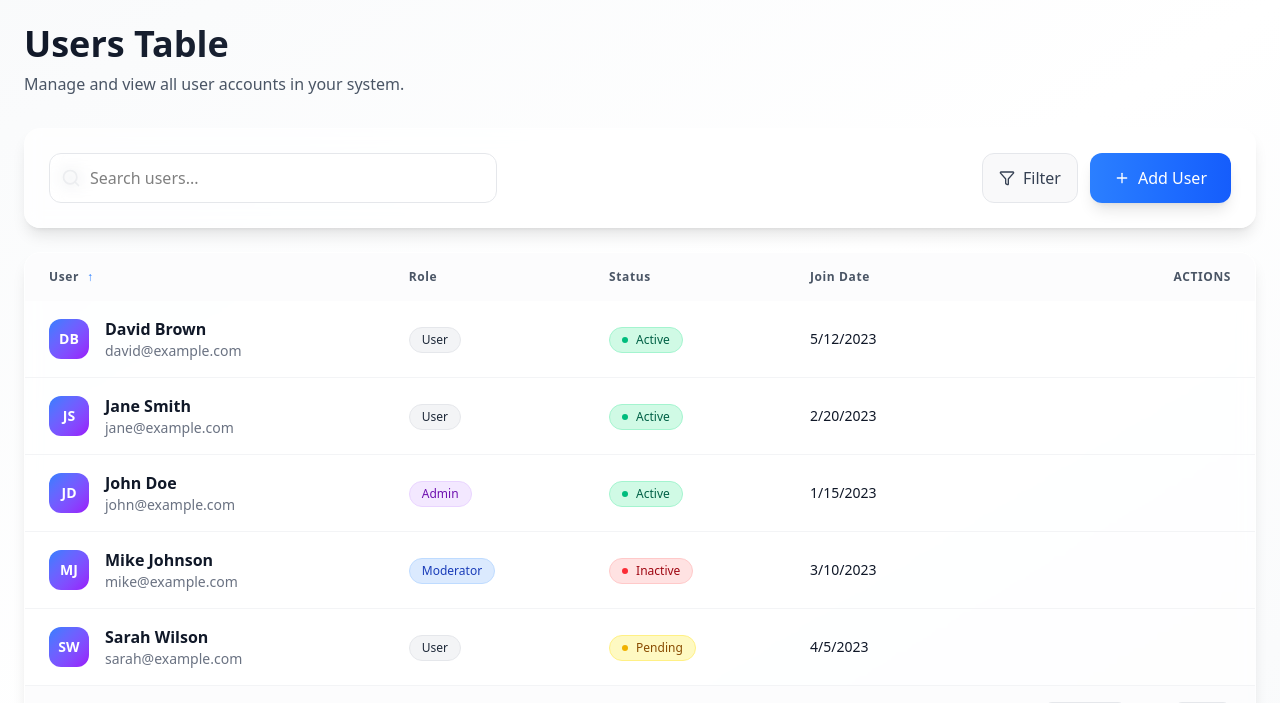
Test: TableView › shows all users when search is cleared
Type "John" into the field with placeholder "Search users..." at (273, 178), box [49,153,497,203]
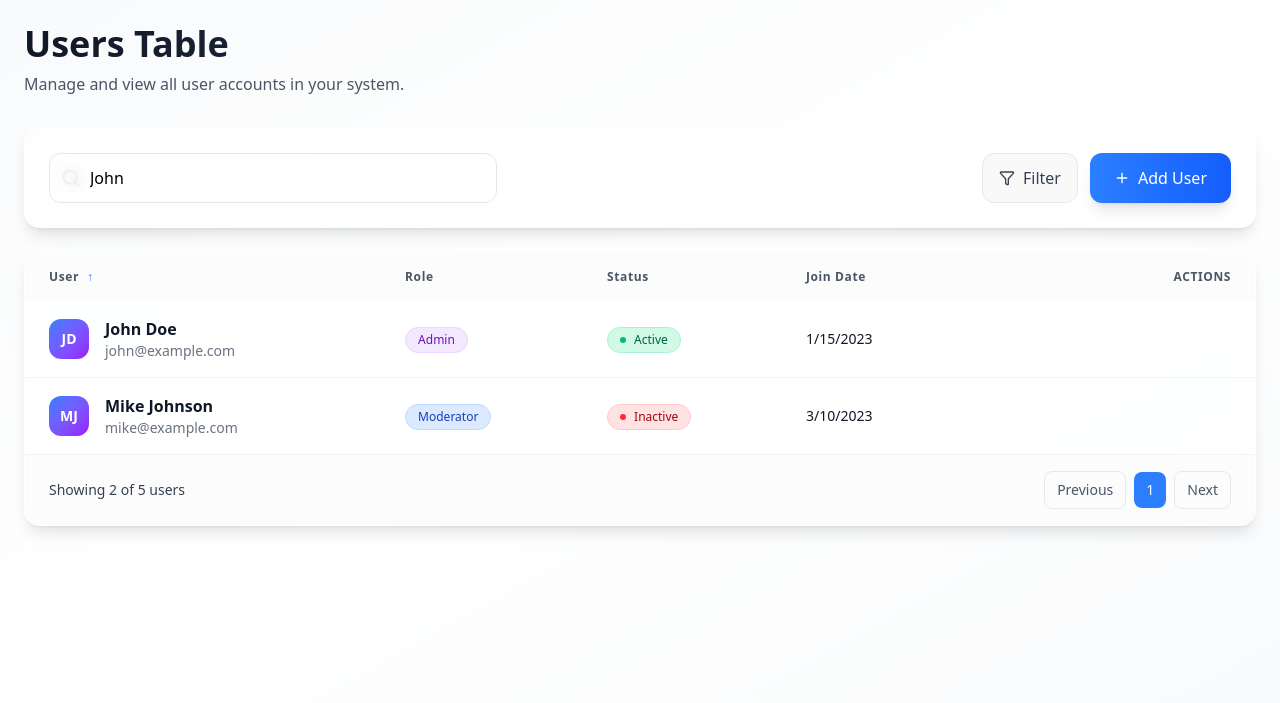
Clear the field with placeholder "Search users..." at (273, 178), box [49,153,497,203]
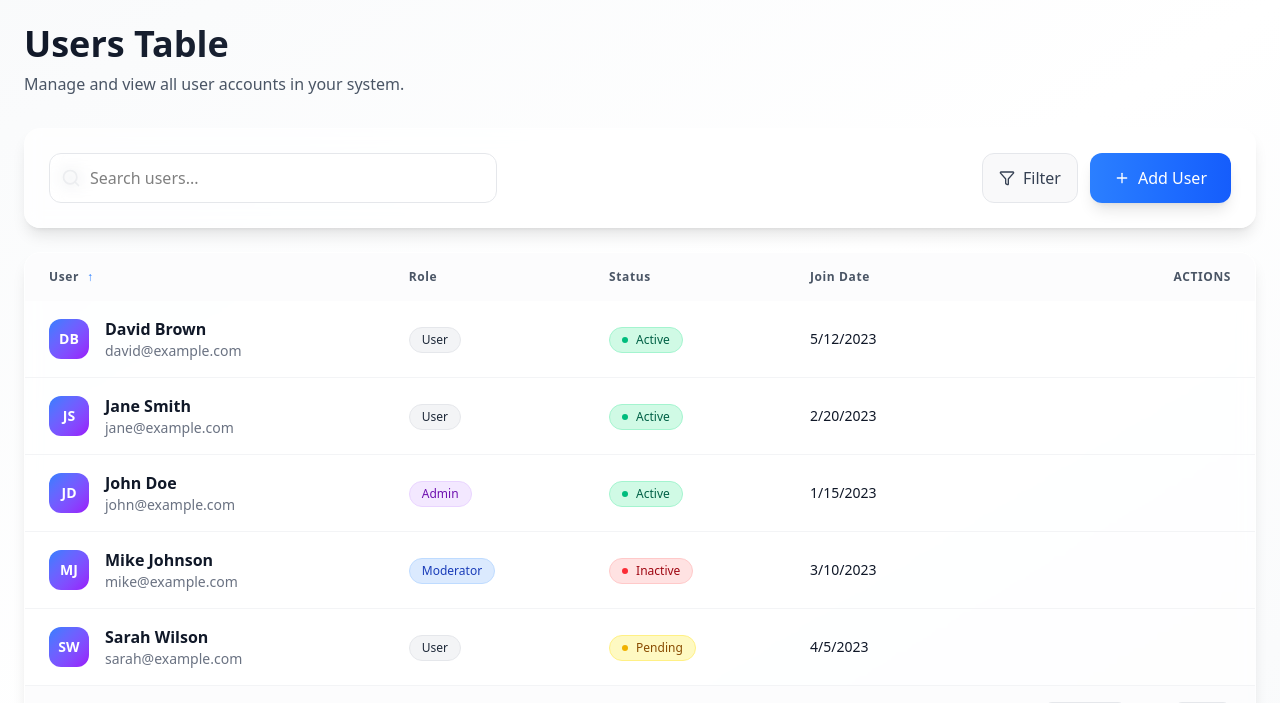
Expected: the text "John Doe" is shown, [105,472,177,494]
Result: the text "Jane Smith" is shown at [105,395,191,417]
